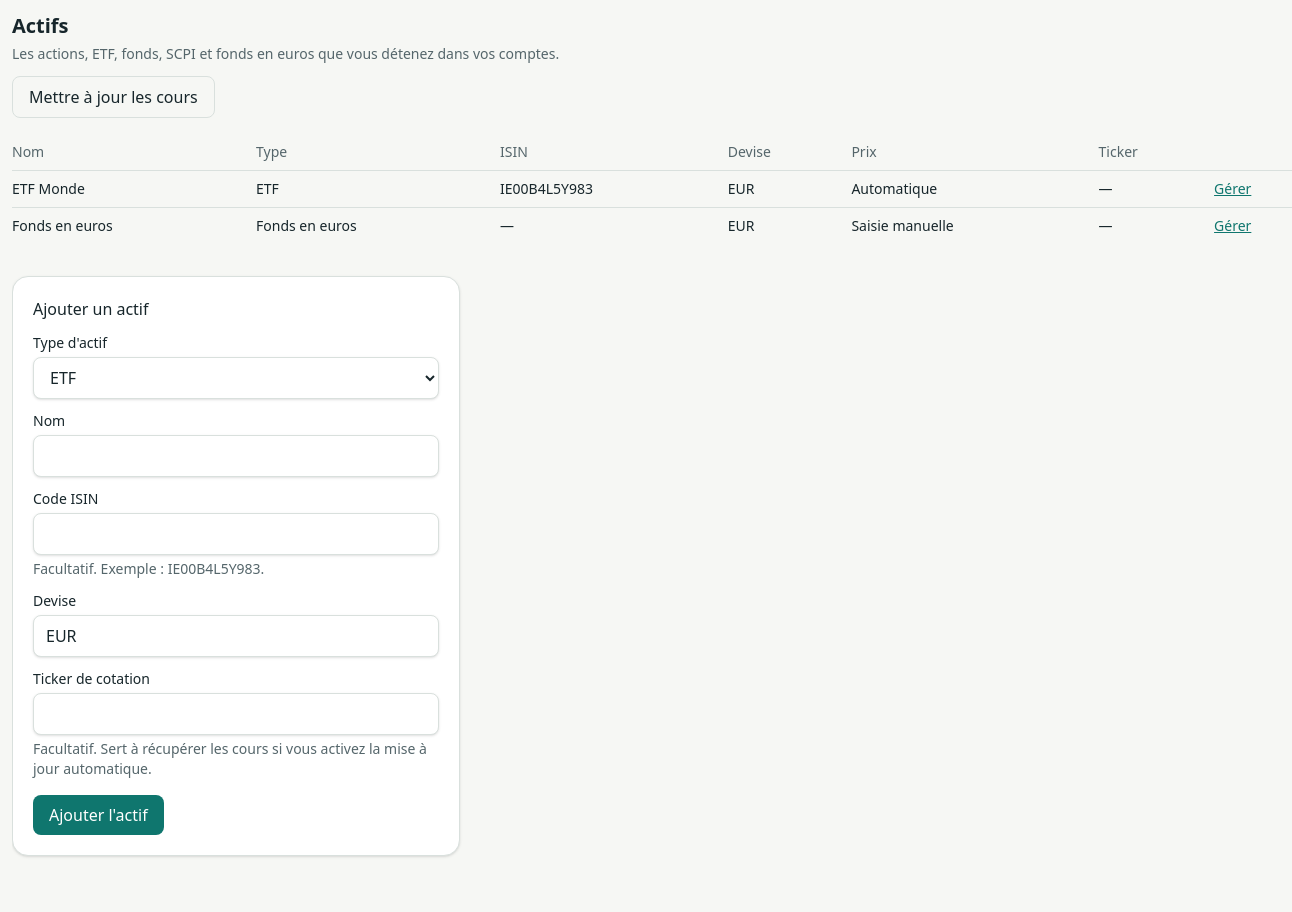
Test: création › affiche le message du serveur quand la clé de contrôle de l'ISIN est fausse
Expected: the table named "Actifs" is shown, left=12, top=134, right=1291, bottom=244
Select "ETF" in the dropdown labelled "Type d'actif": (236,378) left=33, top=357, right=439, bottom=399
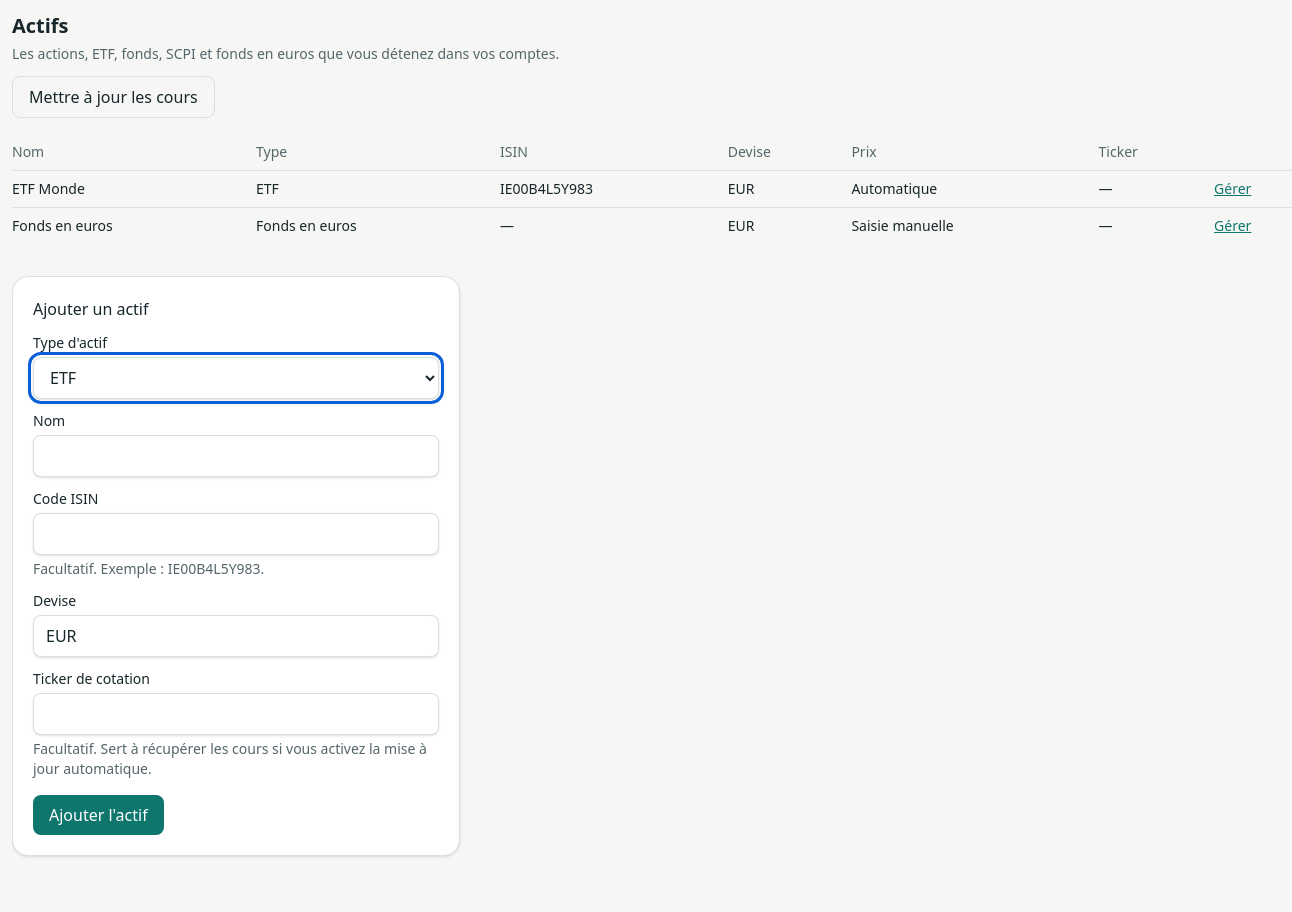
In the field labelled "Nom": (236,456) left=33, top=435, right=439, bottom=477, type "ETF Europe"
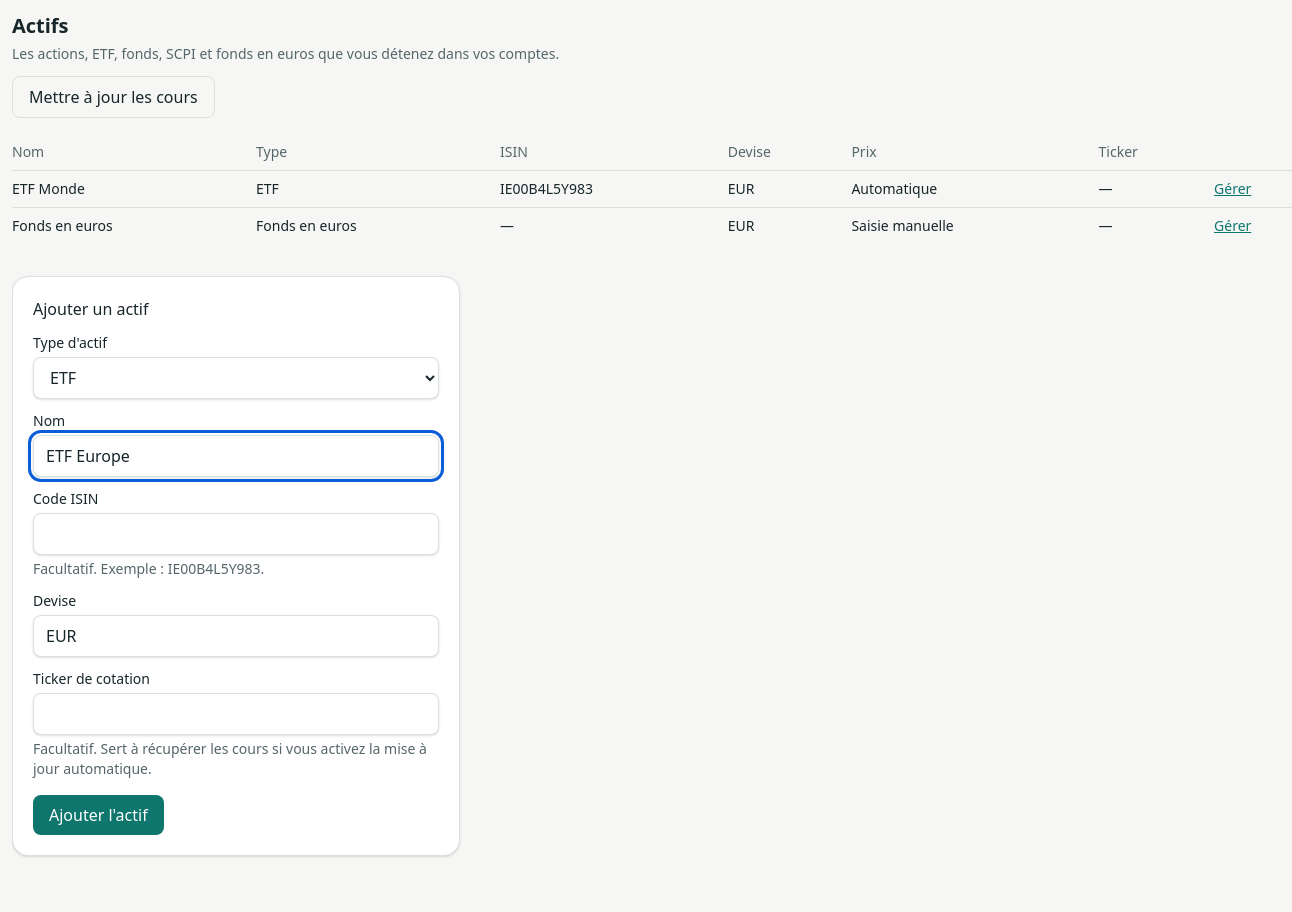
In the field labelled "Code ISIN": (236,534) left=33, top=513, right=439, bottom=555, type "IE00B4L5Y984"
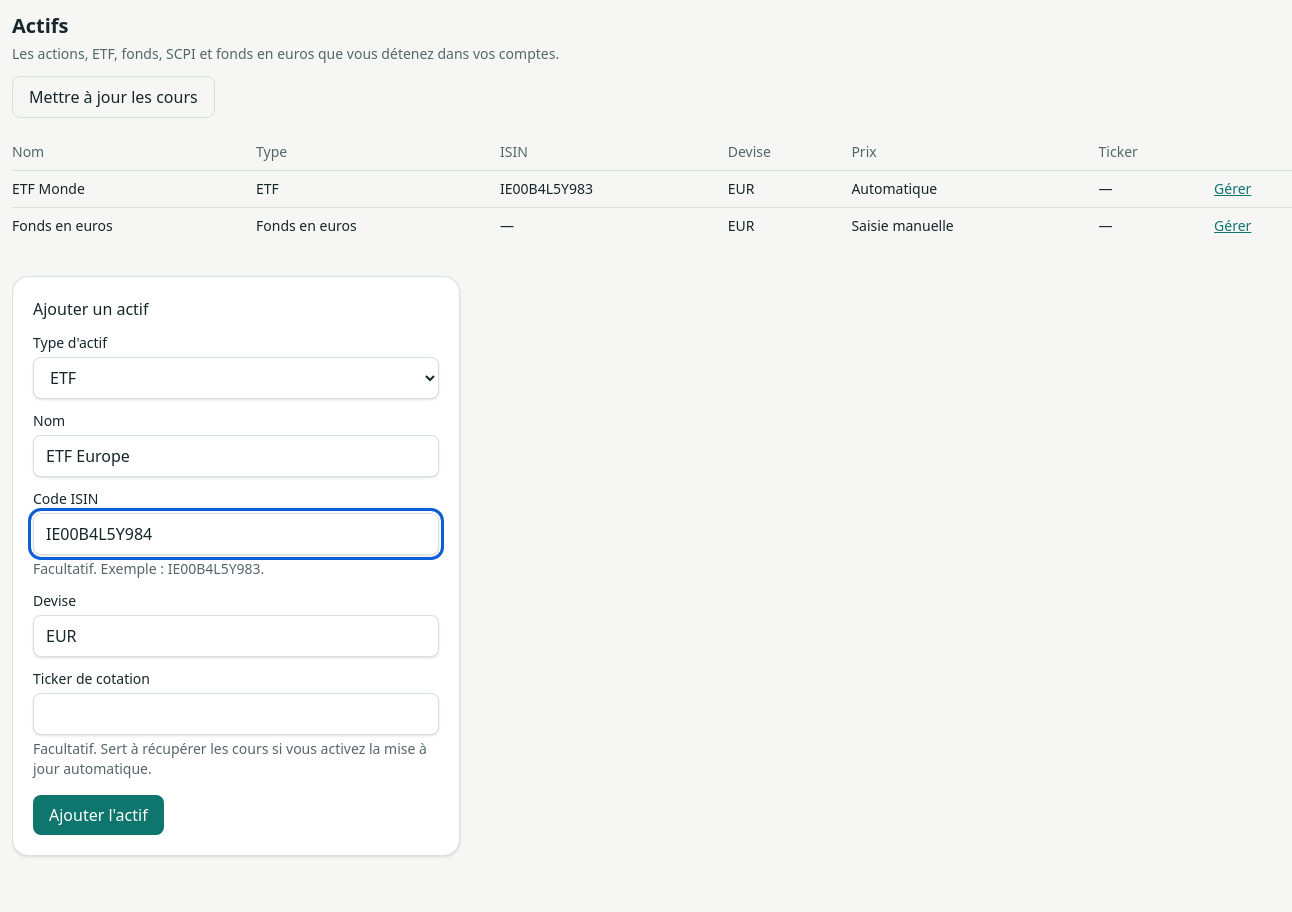
Click the button "Ajouter l'actif": (98,815) left=33, top=795, right=164, bottom=835
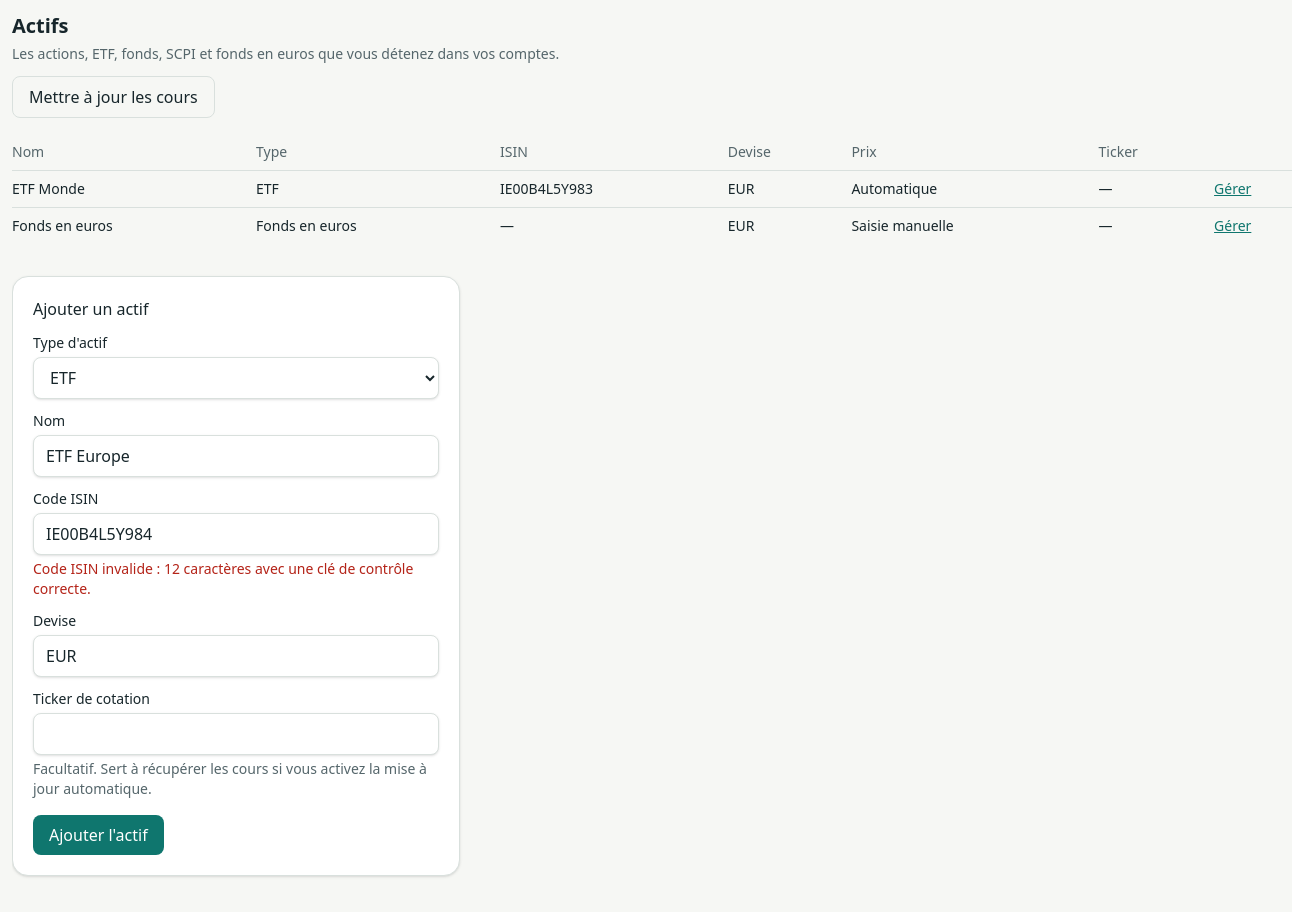
Expected: the text "clé de contrôle correcte" is shown, left=33, top=559, right=413, bottom=598
